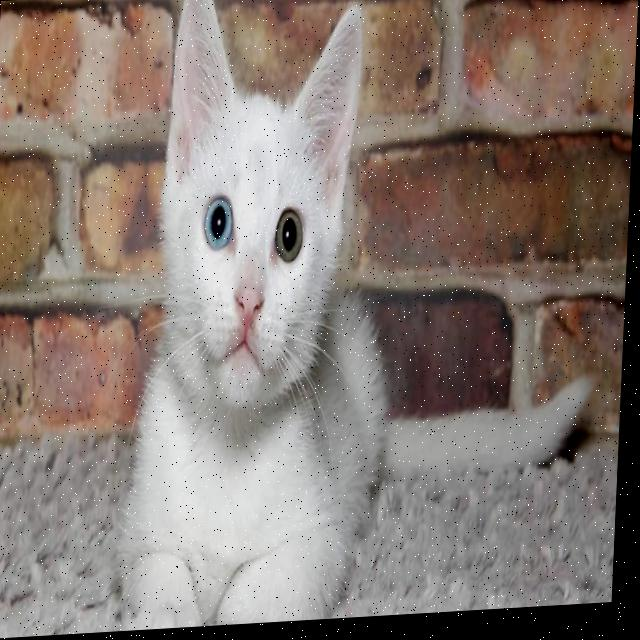Khao Manee: (122, 0, 612, 633)
